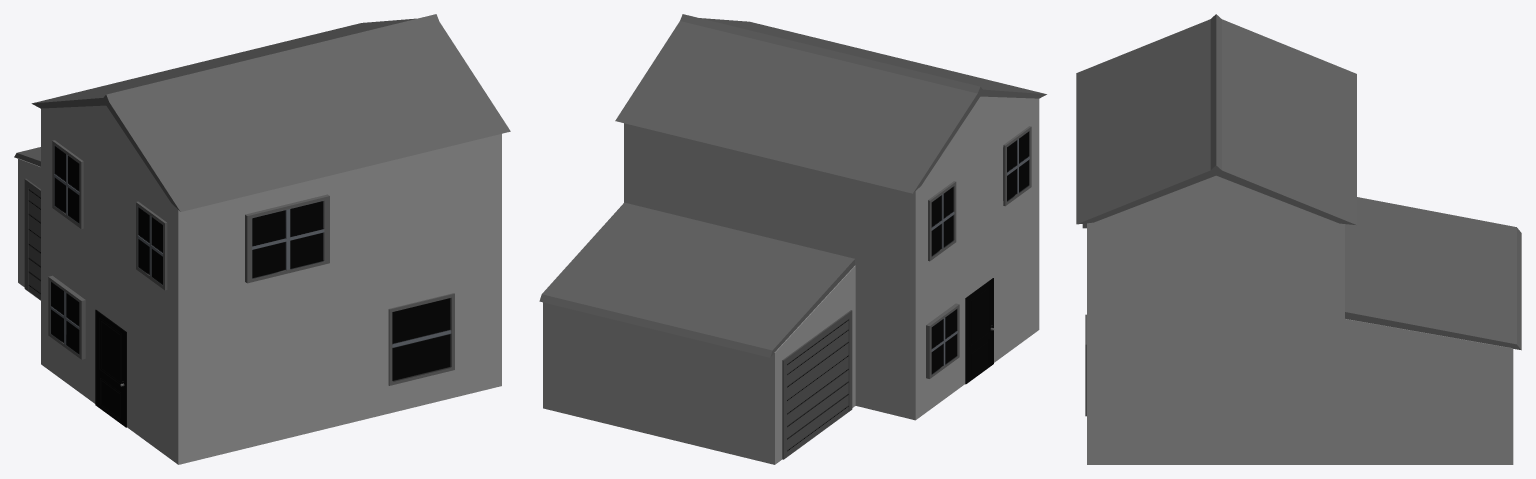
File: house2.glb
The picture shows the model from 3 angles, left to right: view 1: azimuth 30°, elevation 25°; view 2: azimuth 150°, elevation 25°; view 3: azimuth 270°, elevation 25°; orthographic projection. The views are drawn at different scales.
Visible parts, largest first — view 1: Cube.013, Cube.001, Cube.007, Cube.008, Cube.009, Cube.006, Cube.004, Cube.005, Cube.010, Cube.003; view 2: Cube.013, Cube.001, Cube.002, Cube.010, Cube.009, Cube.006, Cube.004, Cube.005, Cube.003; view 3: Cube.013, Cube.001, Cube.002.
Boxes of the visible parts, bbox=[...] form: Cube.013: bbox=[18, 105, 501, 464]; Cube.001: bbox=[31, 14, 510, 211]; Cube.007: bbox=[245, 194, 329, 283]; Cube.008: bbox=[388, 293, 454, 385]; Cube.009: bbox=[95, 309, 126, 427]; Cube.006: bbox=[48, 275, 85, 359]; Cube.004: bbox=[136, 201, 167, 290]; Cube.005: bbox=[52, 140, 83, 228]; Cube.010: bbox=[28, 189, 40, 299]; Cube.003: bbox=[24, 178, 40, 300]; Cube.013: bbox=[543, 96, 1039, 464]; Cube.001: bbox=[615, 14, 1046, 193]; Cube.002: bbox=[539, 202, 854, 357]; Cube.010: bbox=[787, 319, 848, 456]; Cube.009: bbox=[965, 278, 993, 384]; Cube.006: bbox=[926, 303, 959, 378]; Cube.004: bbox=[1003, 126, 1031, 206]; Cube.005: bbox=[928, 181, 956, 261]; Cube.003: bbox=[782, 310, 852, 459]; Cube.013: bbox=[1087, 175, 1513, 464]; Cube.001: bbox=[1076, 14, 1356, 225]; Cube.002: bbox=[1345, 197, 1521, 350].
Bounding box in the file's own units: 89.22 × 82.64 × 111.
8 materials, 8 textured.
